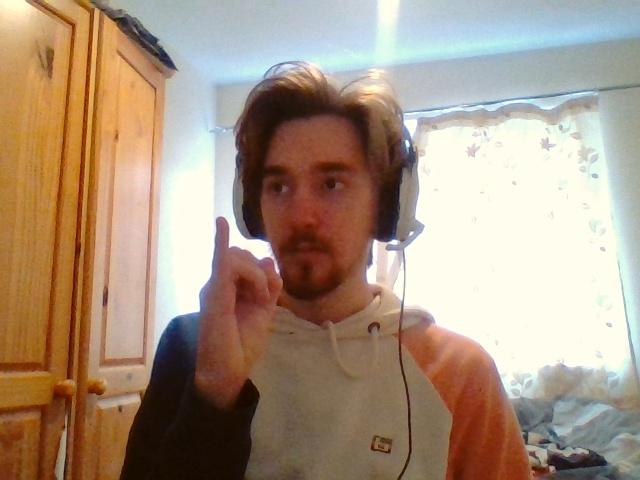bad: (199, 217, 283, 378)
